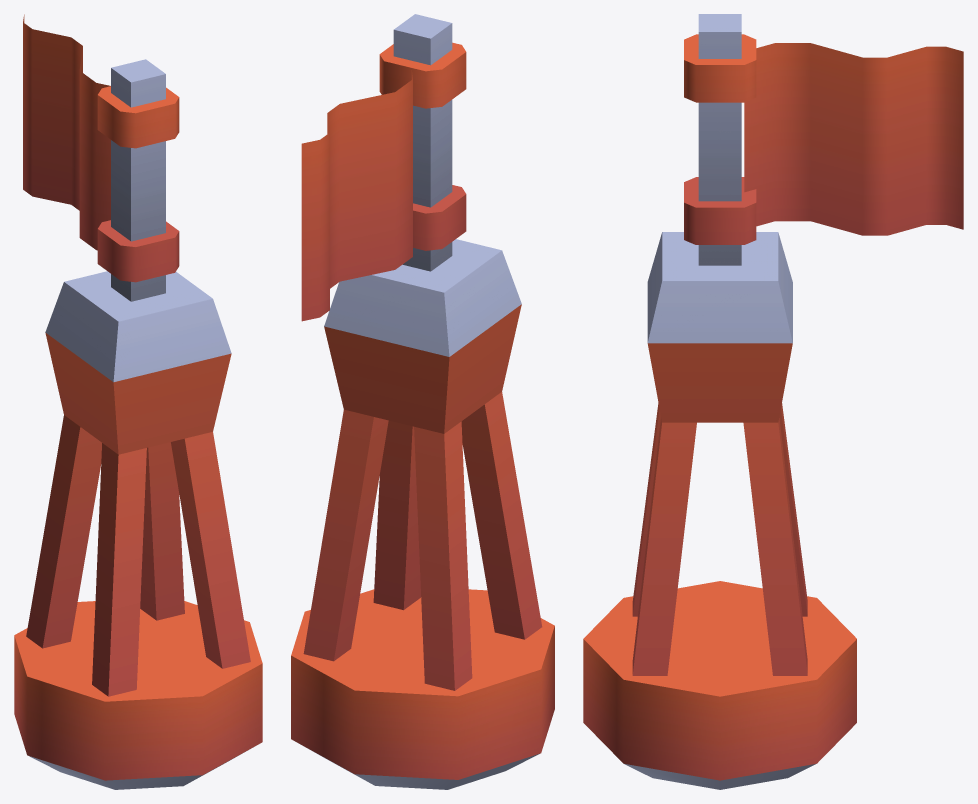
File: buoy-flag.glb
The picture shows the model from 3 angles, left to right: view 1: azimuth 30°, elevation 25°; view 2: azimuth 150°, elevation 25°; view 3: azimuth 270°, elevation 25°; orthographic projection. The views are drawn at different scales.
Visible parts, largest first — view 1: buoy-flag; view 2: buoy-flag; view 3: buoy-flag.
Boxes of the visible parts, <box> form: buoy-flag: <box>14,14,262,789</box>; buoy-flag: <box>291,14,554,789</box>; buoy-flag: <box>583,14,963,789</box>.
Bounding box in the file's own units: 0.9282 × 2.72 × 1.29.
1 material, 1 textured.
